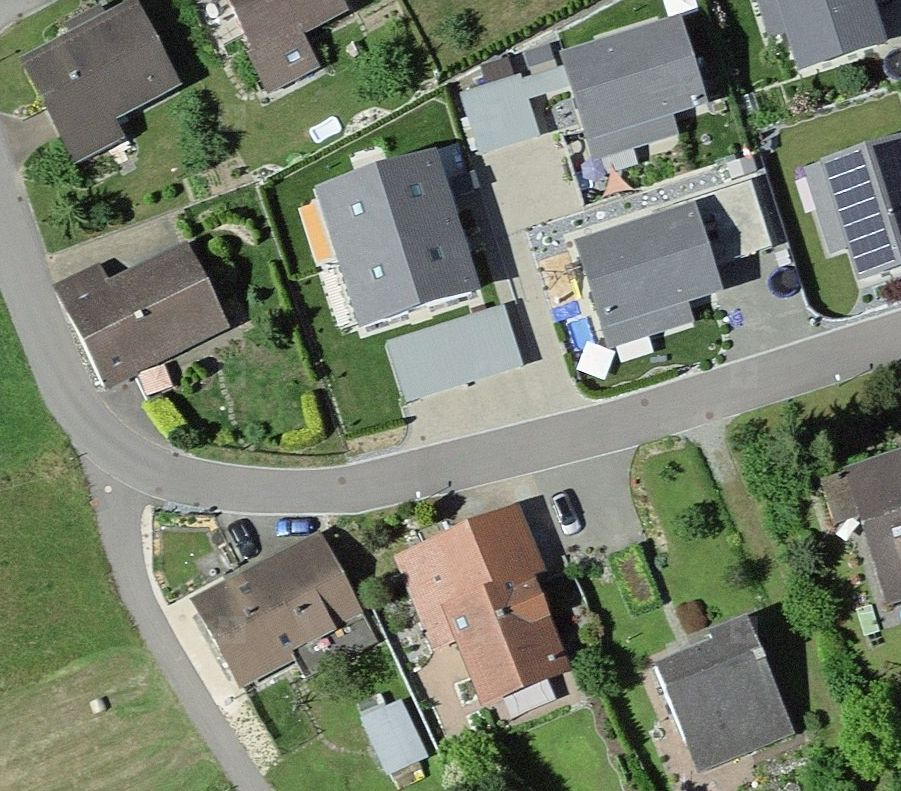solar: (823, 150, 897, 273)
